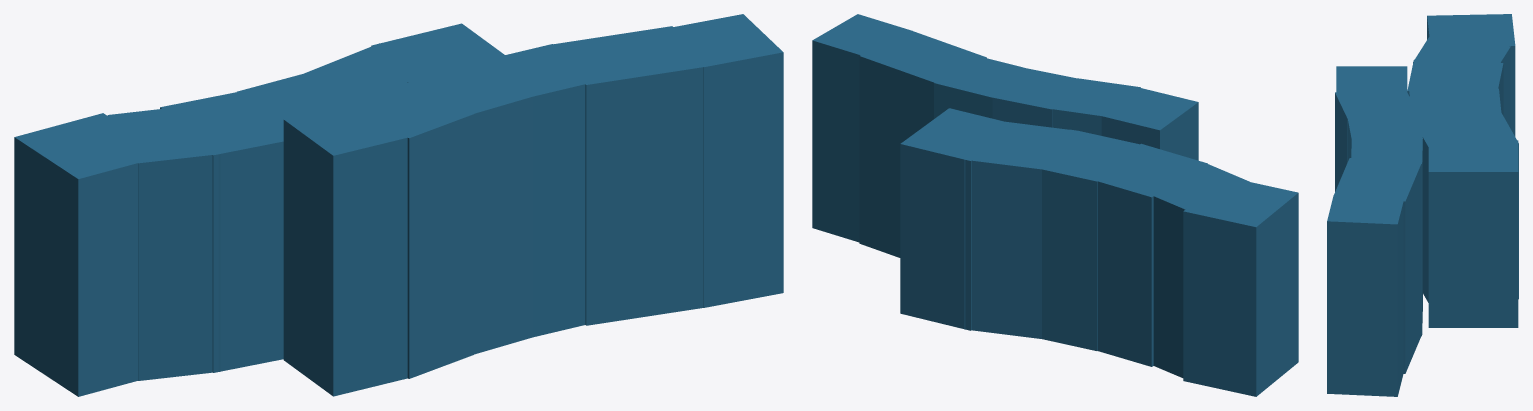
Rendered from SM_Bld_Background_02_Collision.fbx.
3 views of the same model, side by side, from view 1: azimuth 30°, elevation 25°; view 2: azimuth 150°, elevation 25°; view 3: azimuth 270°, elevation 25° (orthographic). The views are drawn at different scales.
Visible parts, largest first — view 1: SM_Bld_Background_02_Collision; view 2: SM_Bld_Background_02_Collision; view 3: SM_Bld_Background_02_Collision.
Boxes of the visible parts, <box> form: SM_Bld_Background_02_Collision: <box>14,14,783,396</box>; SM_Bld_Background_02_Collision: <box>812,14,1298,396</box>; SM_Bld_Background_02_Collision: <box>1327,14,1518,396</box>.
Size of the model in its own units: 9097 by 3224 by 3249.
